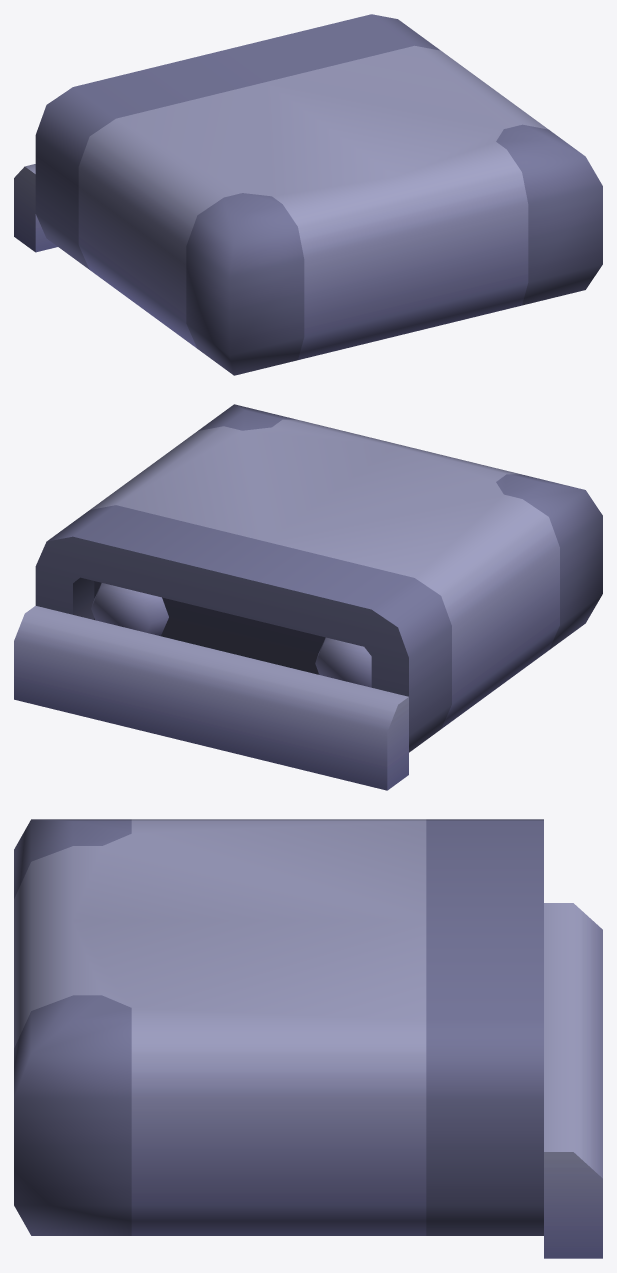
Rendered from kenney-factory-conveyor-stripe-sides-junction-t.glb.
The picture shows the model from 3 angles, top to bottom: view 1: azimuth 30°, elevation 25°; view 2: azimuth 150°, elevation 25°; view 3: azimuth 270°, elevation 25°; orthographic projection. The views are drawn at different scales.
Visible parts, largest first — view 1: conveyor-stripe-sides-junction-t; view 2: conveyor-stripe-sides-junction-t; view 3: conveyor-stripe-sides-junction-t.
Boxes of the visible parts, x1,y1,x2,y2 form: conveyor-stripe-sides-junction-t: (14,14,602,375); conveyor-stripe-sides-junction-t: (14,404,602,790); conveyor-stripe-sides-junction-t: (14,819,602,1258).
Size of the model in its own units: 1 by 0.3999 by 1.
1 material, 1 textured.
